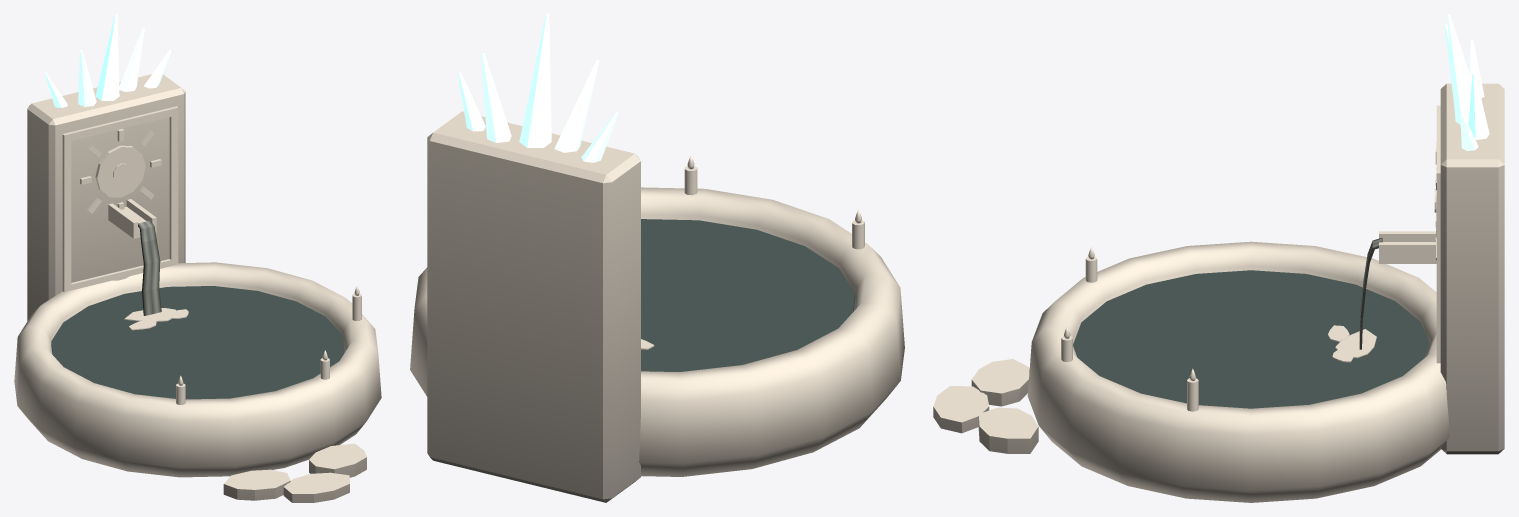
Rendered from SM_VKI_Prop_POI_SpringShrine.fbx.
3 renders of one model, left to right at view 1: azimuth 30°, elevation 25°; view 2: azimuth 150°, elevation 25°; view 3: azimuth 270°, elevation 25°, orthographic. The views are drawn at different scales.
Visible parts, largest first — view 1: SM_VKI_Prop_POI_SpringShrine.001; view 2: SM_VKI_Prop_POI_SpringShrine.001; view 3: SM_VKI_Prop_POI_SpringShrine.001.
Part boxes in pixels (bbox=[...]): SM_VKI_Prop_POI_SpringShrine.001: bbox=[14, 14, 381, 502]; SM_VKI_Prop_POI_SpringShrine.001: bbox=[410, 14, 904, 502]; SM_VKI_Prop_POI_SpringShrine.001: bbox=[933, 14, 1504, 502].
Bounding box in the file's own units: 2.24 × 2.22 × 2.86.
